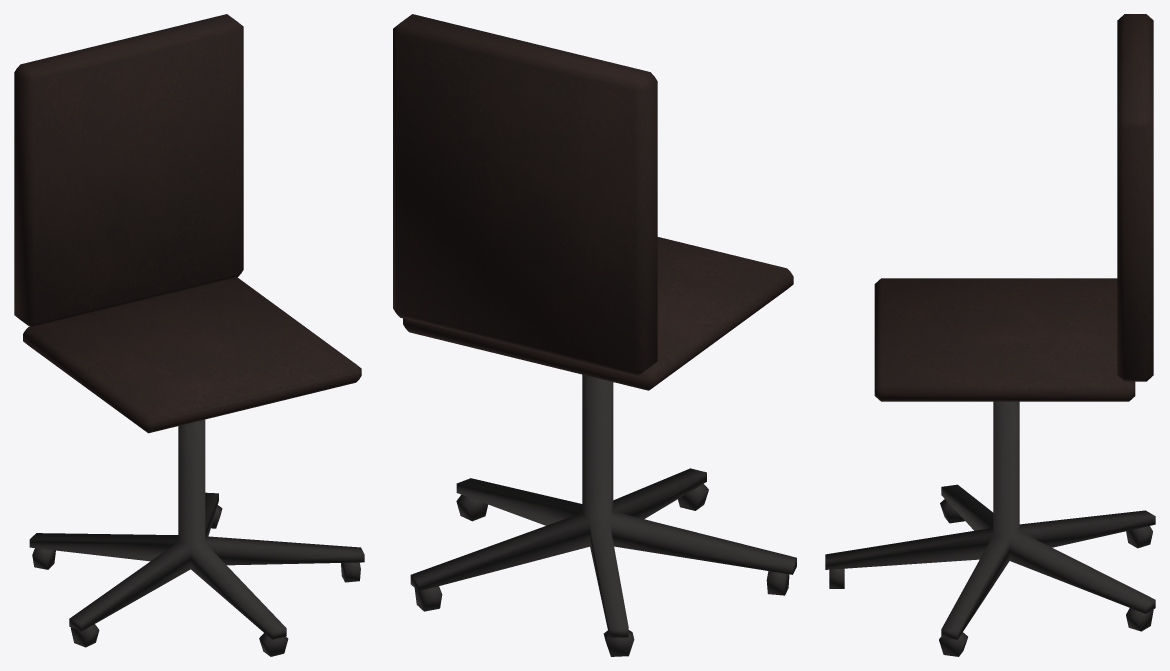
File: office_chair.fbx
3 views of the same model, side by side, from view 1: azimuth 30°, elevation 25°; view 2: azimuth 150°, elevation 25°; view 3: azimuth 270°, elevation 25° (orthographic). The views are drawn at different scales.
Parts seen in each view (by area): view 1: office_chair; view 2: office_chair; view 3: office_chair.
Part boxes in pixels (x1,y1,x2,y2): office_chair: (14,14,364,656); office_chair: (393,14,796,656); office_chair: (825,14,1155,656).
Size of the model in its own units: 66.68 by 110 by 63.41.
